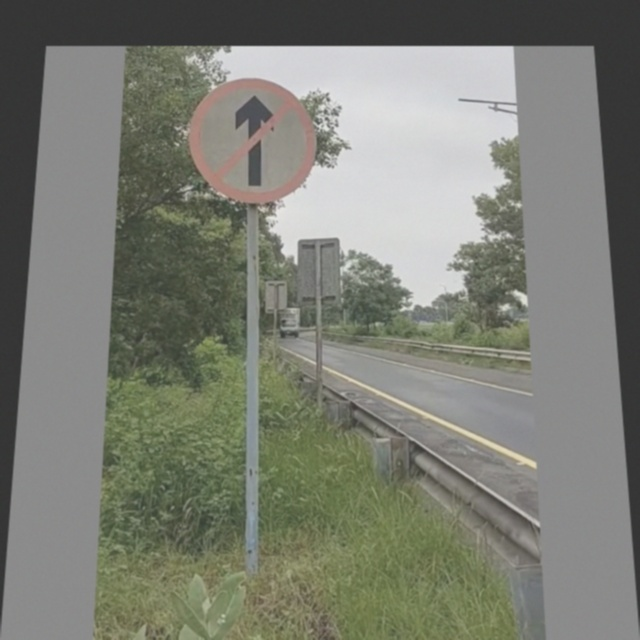No_Entry: (184, 81, 319, 201)
